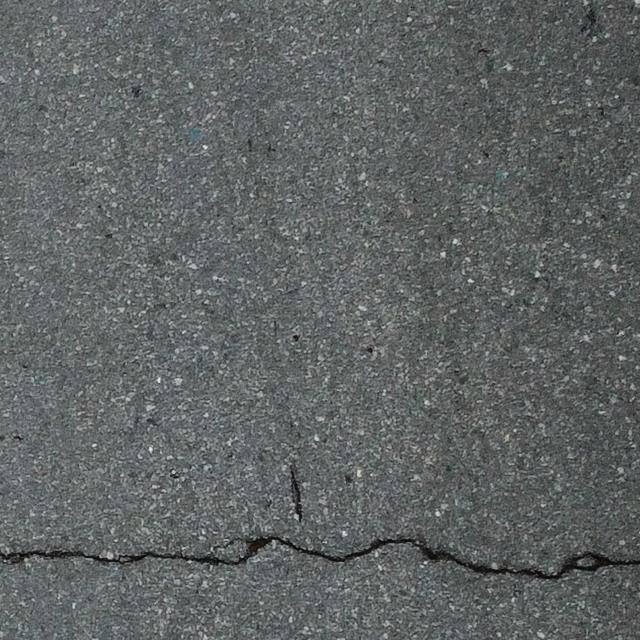TransverseCrack: (1, 535, 640, 581)
